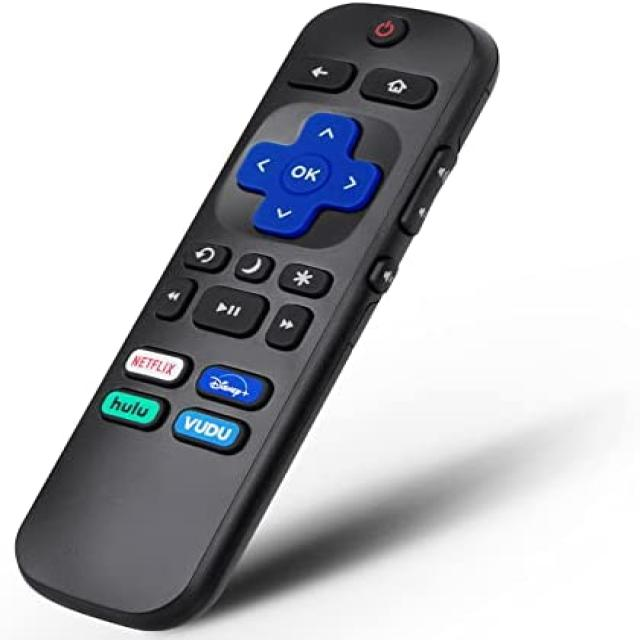remote: (17, 0, 494, 619)
